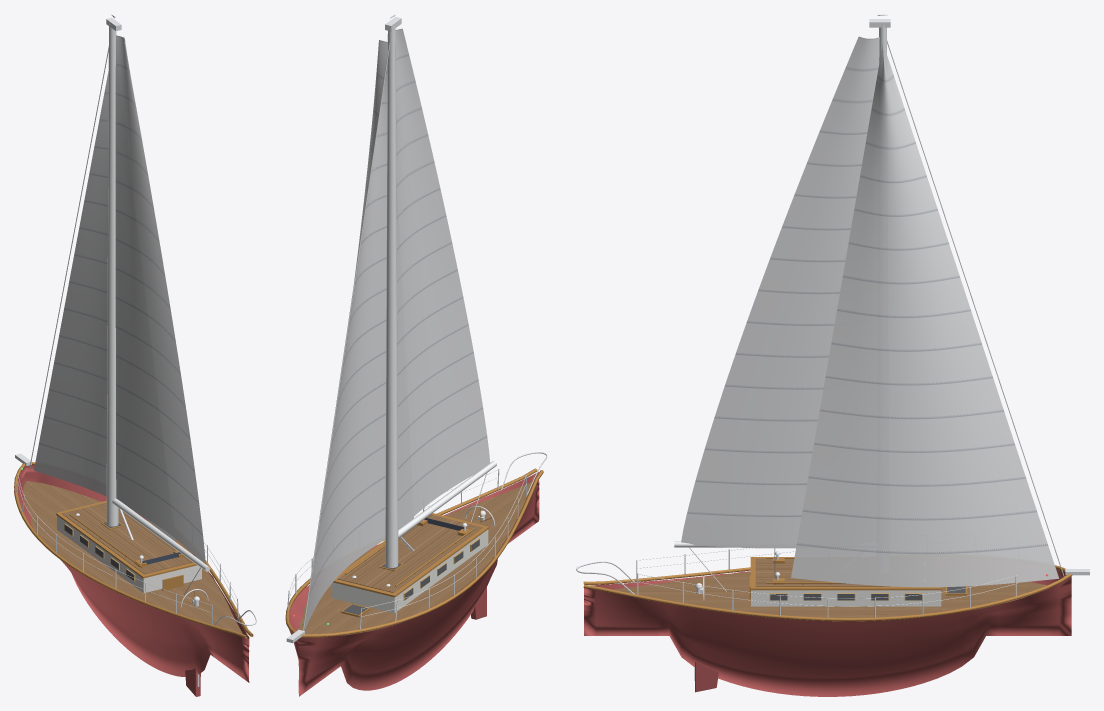
The picture shows the model from 3 angles, left to right: view 1: azimuth 30°, elevation 25°; view 2: azimuth 150°, elevation 25°; view 3: azimuth 270°, elevation 25°; orthographic projection. The views are drawn at different scales.
Parts seen in each view (by area): view 1: Sails, Mesh_1, Mesh_4, Mesh_124, Mesh_6, Mesh_5, Mesh_3, Mesh_7, Mesh_127, Mesh_137; view 2: Sails, Mesh_1, Mesh_4, Mesh_124, Mesh_6, Mesh_5, Mesh_3, Mesh_7, Mesh_137, Mesh_127, Mesh_2; view 3: Sails, Mesh_1, Mesh_4, Mesh_5, Mesh_2, Mesh_6, Mesh_7, Mesh_137.
Boxes of the visible parts, x1=… form: Sails: x1=34, y1=35, x2=205, y2=563; Mesh_1: x1=14, y1=465, x2=249, y2=682; Mesh_4: x1=23, y1=481, x2=249, y2=644; Mesh_124: x1=106, y1=24, x2=118, y2=526; Mesh_6: x1=62, y1=502, x2=193, y2=574; Mesh_5: x1=57, y1=515, x2=201, y2=592; Mesh_3: x1=14, y1=463, x2=247, y2=638; Mesh_7: x1=56, y1=500, x2=196, y2=578; Mesh_127: x1=112, y1=498, x2=210, y2=571; Mesh_137: x1=29, y1=46, x2=108, y2=471; Sails: x1=303, y1=28, x2=490, y2=630; Mesh_1: x1=289, y1=472, x2=539, y2=696; Mesh_4: x1=298, y1=482, x2=532, y2=637; Mesh_124: x1=385, y1=26, x2=398, y2=567; Mesh_6: x1=337, y1=514, x2=482, y2=592; Mesh_5: x1=331, y1=529, x2=488, y2=613; Mesh_3: x1=301, y1=470, x2=543, y2=637; Mesh_7: x1=333, y1=513, x2=489, y2=597; Mesh_137: x1=303, y1=43, x2=390, y2=630; Mesh_127: x1=398, y1=461, x2=496, y2=537; Mesh_2: x1=285, y1=468, x2=537, y2=633; Sails: x1=681, y1=36, x2=1058, y2=587; Mesh_1: x1=584, y1=569, x2=1071, y2=696; Mesh_4: x1=613, y1=572, x2=1050, y2=617; Mesh_5: x1=751, y1=590, x2=941, y2=606; Mesh_2: x1=583, y1=574, x2=1072, y2=621; Mesh_6: x1=755, y1=558, x2=889, y2=586; Mesh_7: x1=750, y1=557, x2=941, y2=590; Mesh_137: x1=887, y1=40, x2=1064, y2=576.
Size of the model in its own units: 4.85 by 24.58 by 16.76.
Materials: 12 (2 with a texture image).
